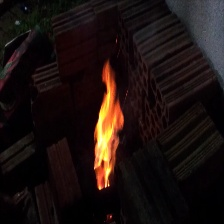fire: (89, 59, 130, 193)
